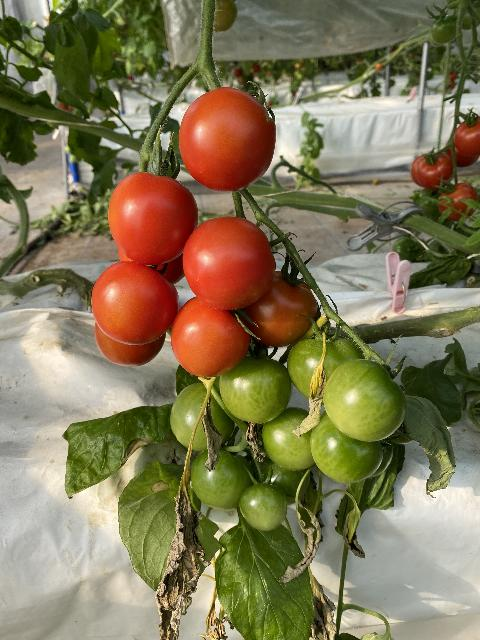l_fully_ripened: (179, 87, 277, 192), (182, 216, 277, 312), (108, 171, 199, 265), (90, 262, 179, 347), (171, 296, 250, 379), (95, 321, 166, 367), (436, 182, 477, 221), (415, 153, 452, 190), (444, 133, 480, 168), (453, 118, 480, 157)
l_green: (323, 359, 406, 442), (287, 335, 368, 406), (310, 412, 383, 485), (219, 354, 293, 423), (169, 381, 235, 452), (190, 448, 252, 511), (262, 407, 319, 472), (249, 455, 310, 505), (238, 484, 289, 533)
l_half_ripened: (239, 270, 319, 347)
